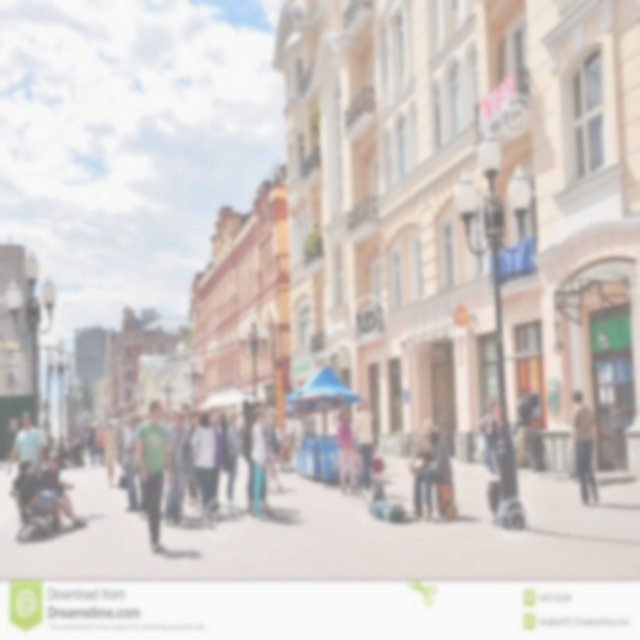pessoa: (134, 398, 174, 554), (405, 417, 455, 523), (11, 456, 71, 536), (24, 456, 89, 529), (568, 388, 600, 506), (164, 407, 193, 526), (247, 398, 275, 518), (189, 408, 217, 519), (246, 399, 272, 512), (37, 452, 75, 528), (353, 394, 379, 498), (7, 411, 46, 477), (248, 406, 268, 522), (336, 404, 360, 496), (165, 406, 186, 507), (514, 386, 538, 471), (121, 410, 140, 513), (224, 409, 242, 512), (132, 415, 148, 520), (479, 401, 500, 475), (209, 416, 224, 514), (192, 408, 206, 501), (266, 419, 283, 492), (102, 420, 120, 488), (186, 408, 198, 502), (268, 430, 292, 468), (366, 407, 379, 475), (480, 398, 492, 471), (354, 406, 366, 466), (67, 434, 87, 468), (112, 418, 125, 466), (86, 420, 99, 468), (96, 422, 108, 468), (491, 398, 502, 447), (38, 424, 50, 468), (304, 407, 318, 437), (72, 437, 84, 468), (293, 413, 305, 439), (95, 422, 102, 464), (284, 412, 294, 441), (182, 409, 192, 432), (72, 437, 82, 459), (76, 424, 84, 450), (279, 428, 287, 450), (122, 420, 132, 435), (238, 423, 246, 438), (180, 401, 190, 412), (168, 417, 175, 425), (104, 422, 109, 432), (144, 414, 150, 421), (82, 432, 86, 442), (112, 424, 116, 430)
